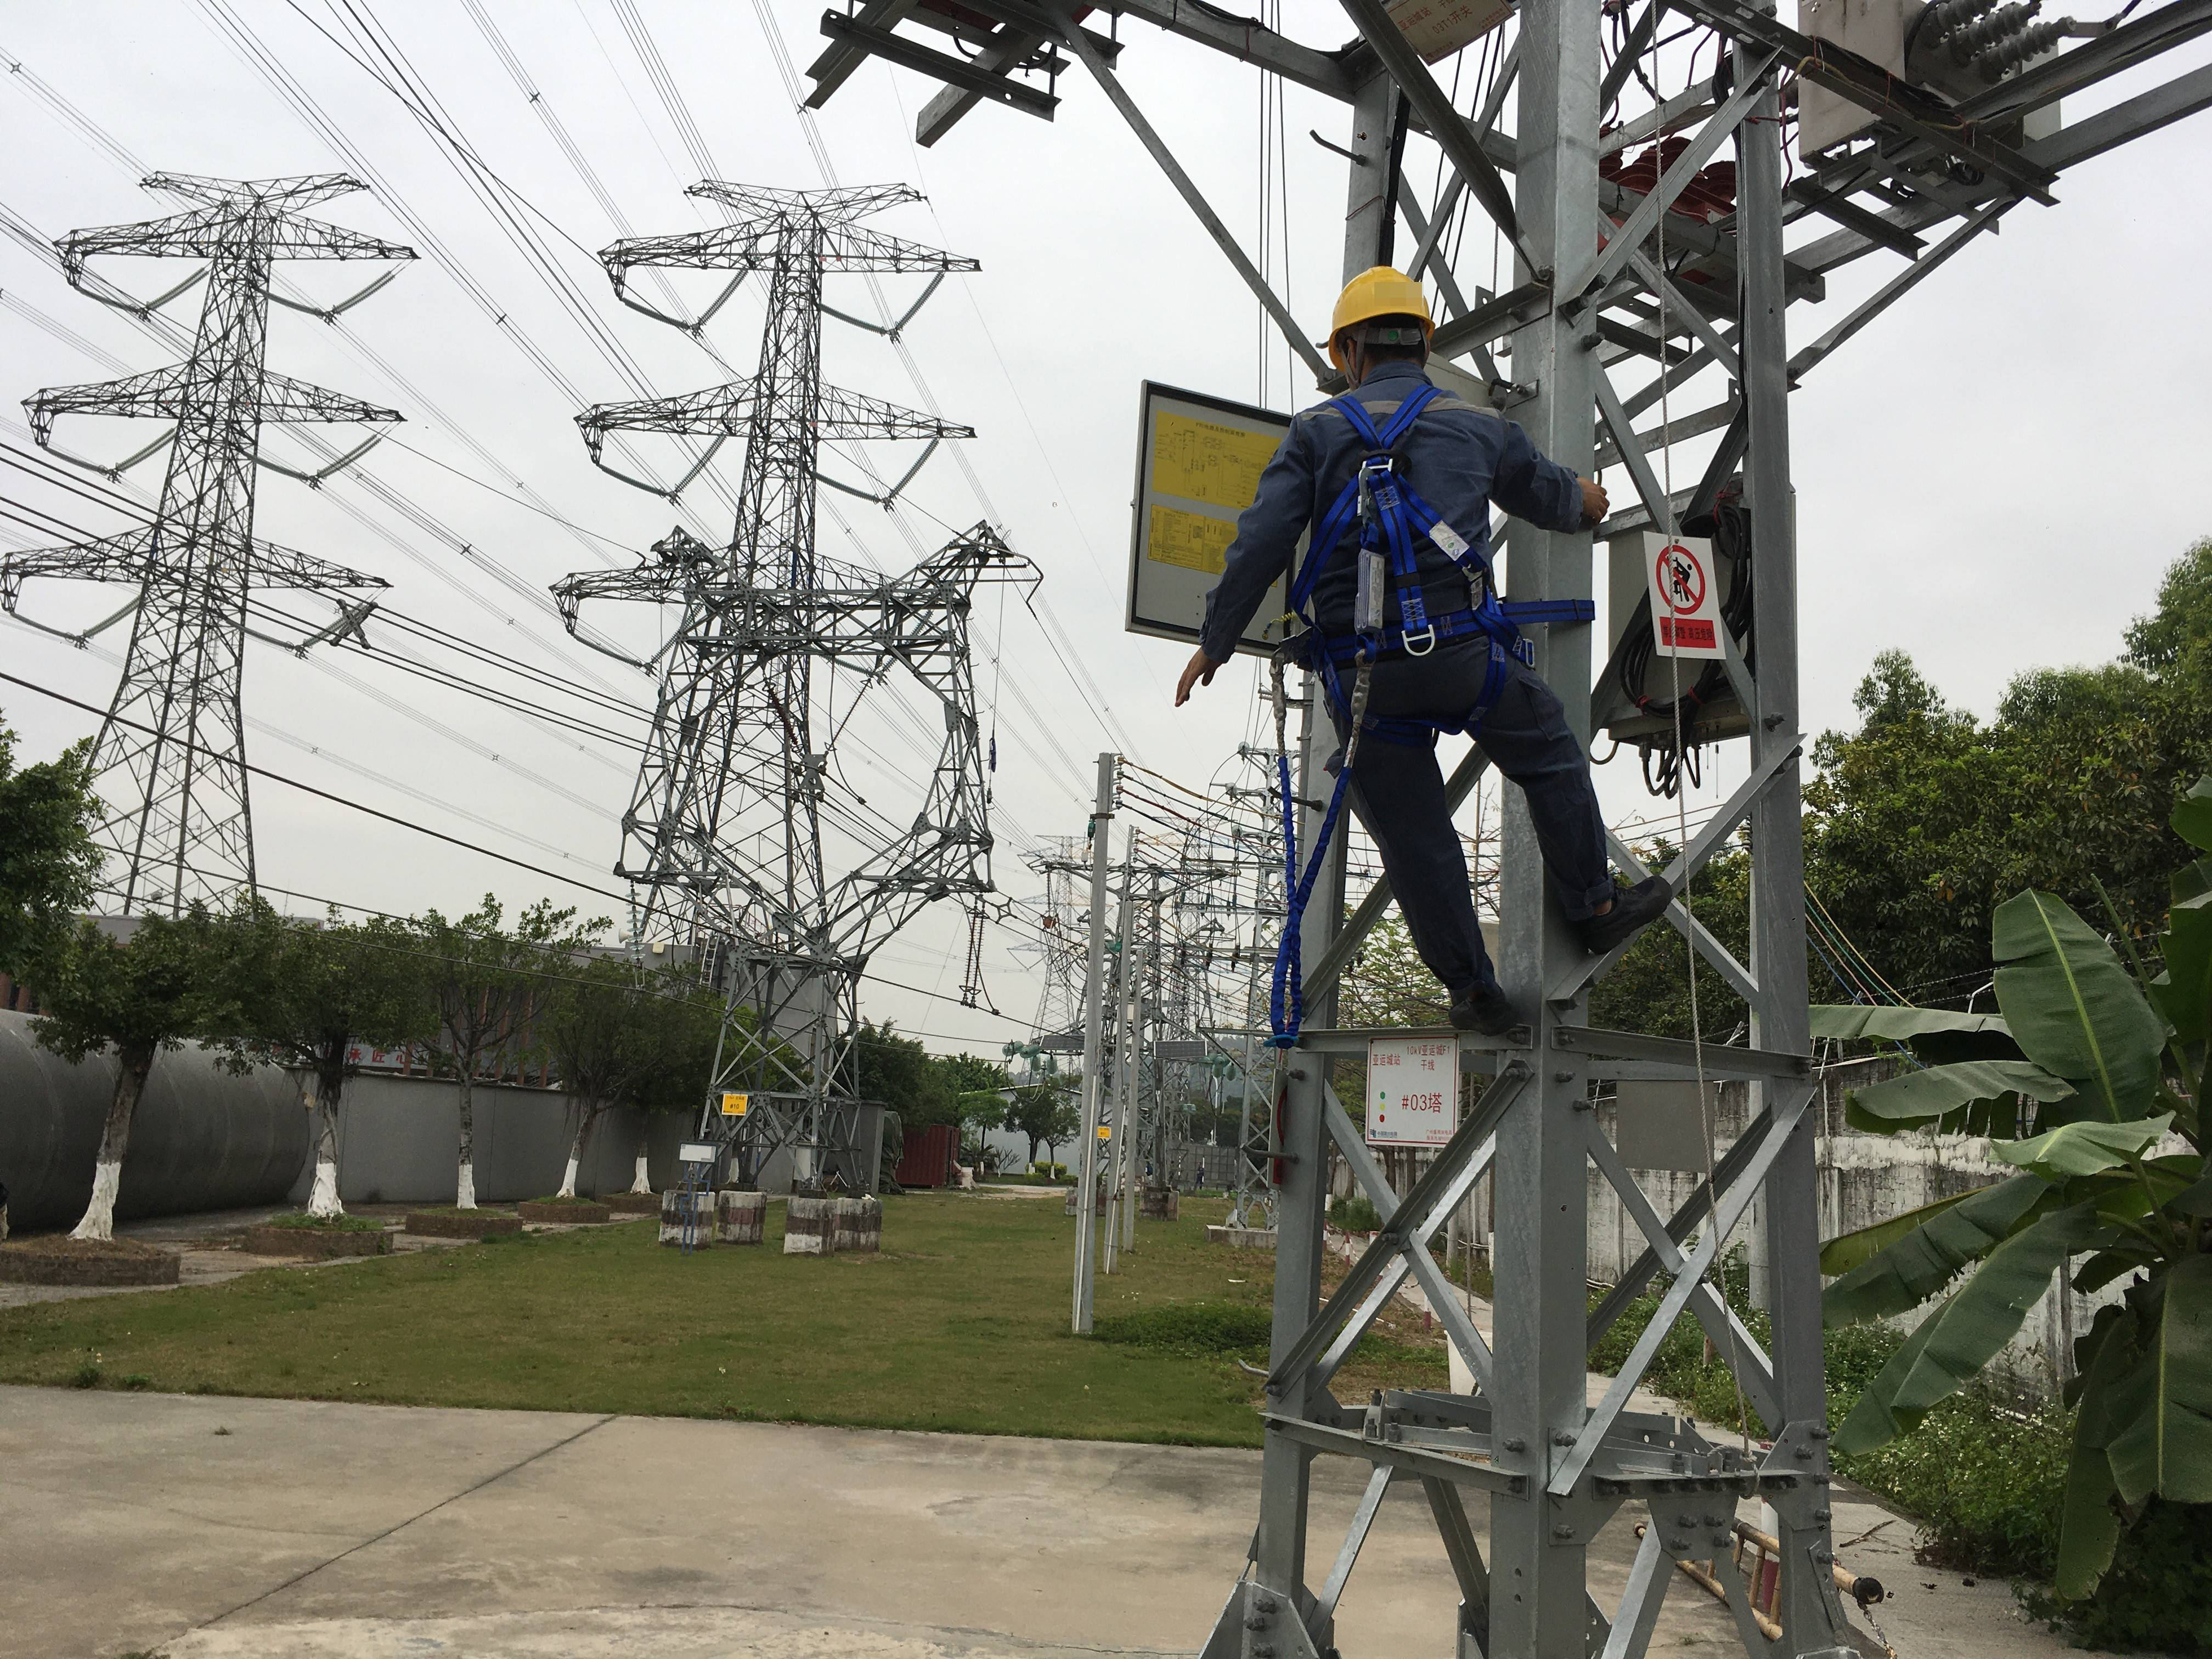downsuit: (1324, 641, 1615, 978)
upsuit: (1247, 378, 1571, 622)
